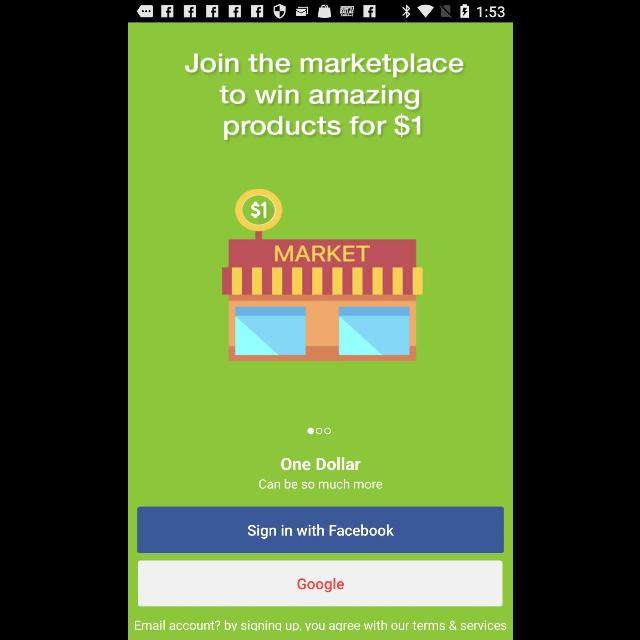image: (220, 187, 422, 361)
pageindicator: (306, 428, 330, 434)
text: (183, 53, 464, 141), (134, 620, 506, 630), (258, 478, 382, 489), (280, 458, 360, 470)
textbutton: (136, 507, 504, 553), (136, 560, 502, 606)
uppertaskbar: (128, 1, 512, 23)
